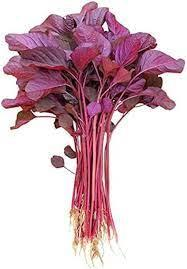amaranth: (0, 0, 185, 268), (67, 113, 121, 268)
